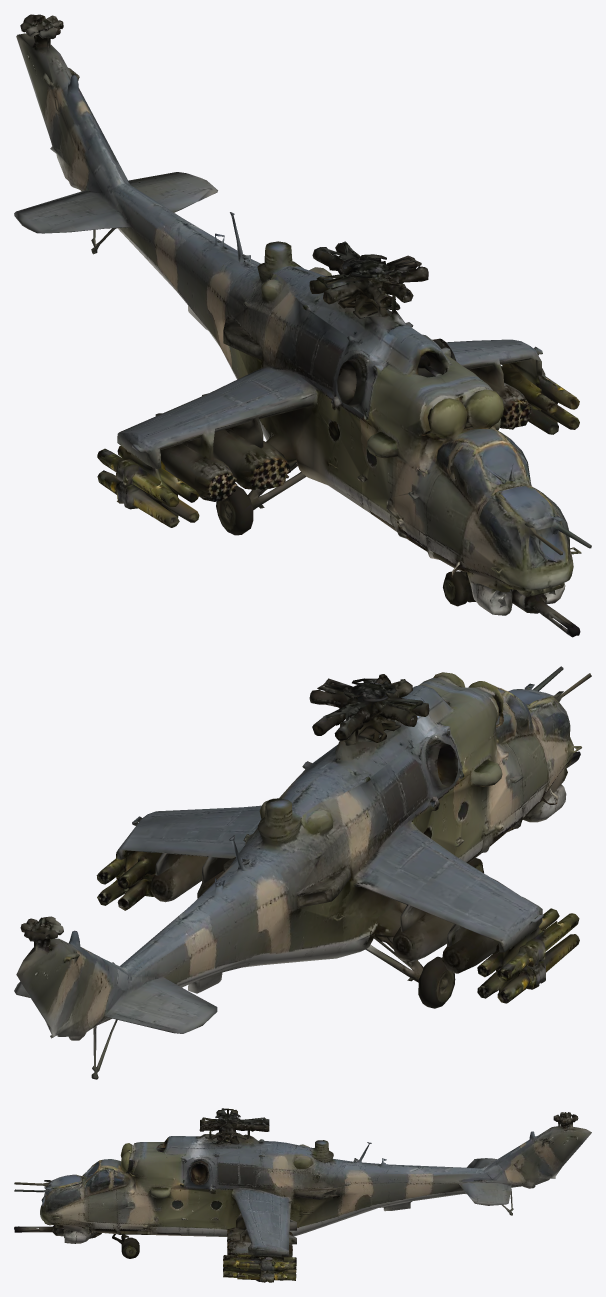
The model's file is heli_attack.glb.
3 renders of one model, top to bottom at view 1: azimuth 30°, elevation 25°; view 2: azimuth 150°, elevation 25°; view 3: azimuth 270°, elevation 25°, orthographic. The views are drawn at different scales.
Parts seen in each view (by area): view 1: geometry_0; view 2: geometry_0; view 3: geometry_0.
Part boxes in pixels (x1,y1,x2,y2): geometry_0: (14, 14, 591, 637); geometry_0: (14, 666, 591, 1079); geometry_0: (14, 1108, 591, 1282).
Bounding box in the file's own units: 0.5113 × 0.3241 × 1.18.
1 material, 1 textured.
